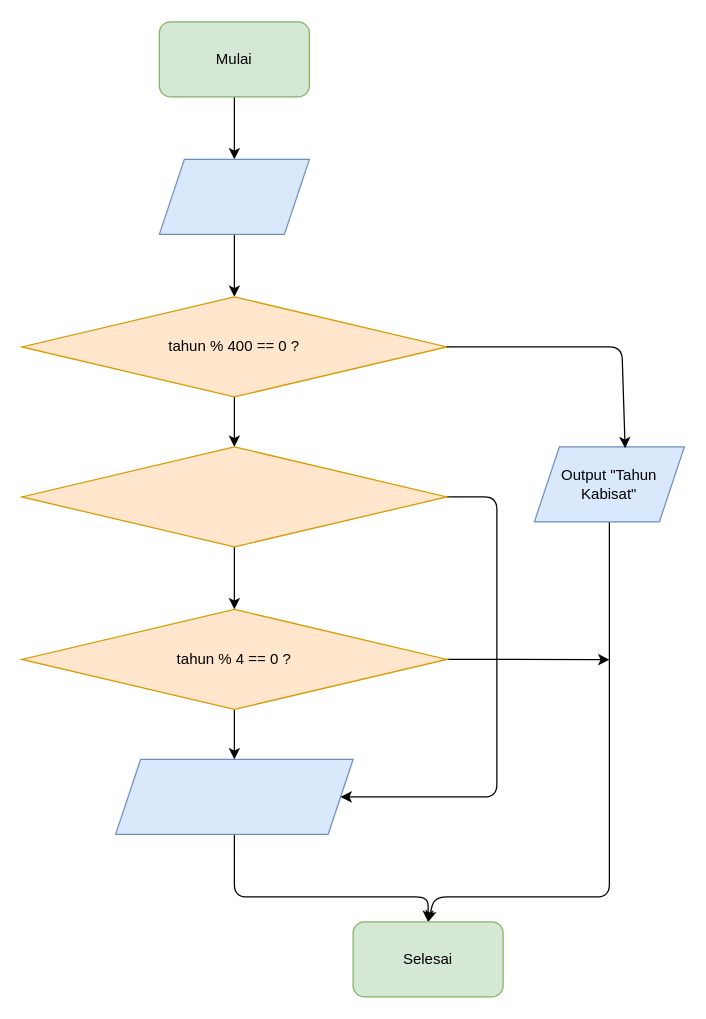
This 706x1019 diagram has some shape labels left out. Here are the shapes that lost their labels. From the top down, the centre of each, then its label:
[233,196]: input tahun
[234,496]: tahun % 100 == 0 ?
[233,796]: Output "Bukan Kabisat"
